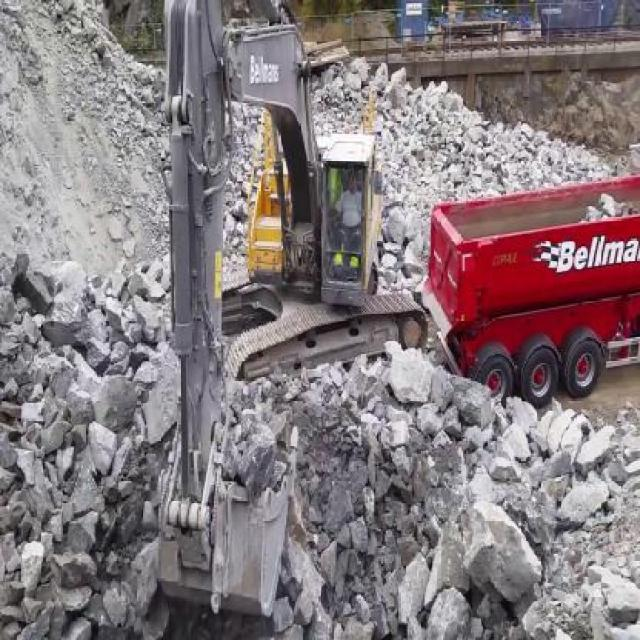Dump Truck: (424, 170, 639, 405)
Excavator: (148, 0, 430, 618)
